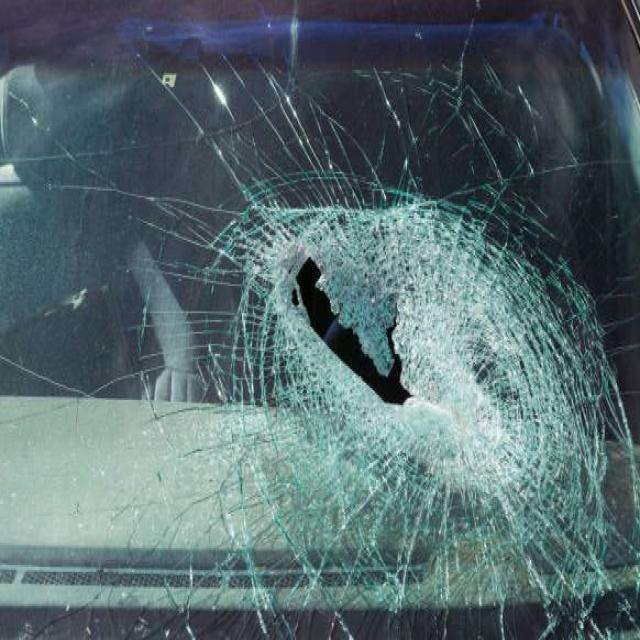electronic: (187, 165, 640, 640)
